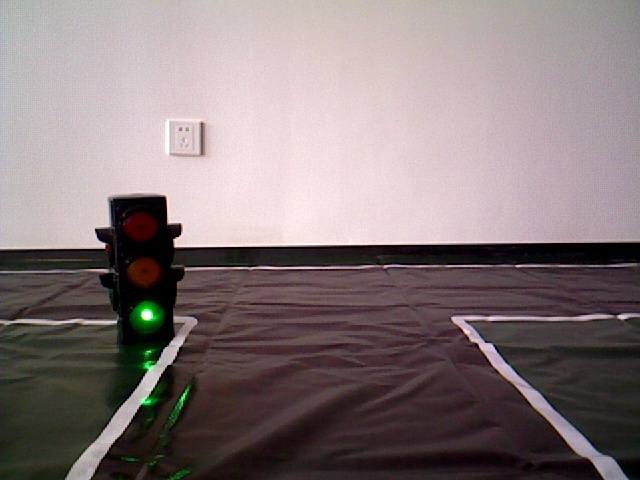green: (110, 198, 171, 331)
